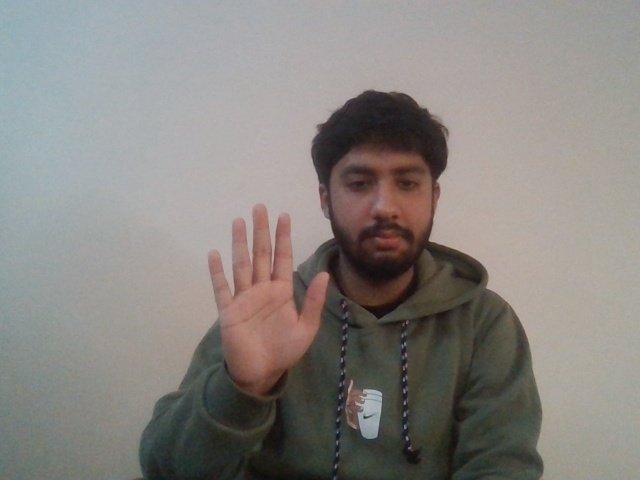Hello: (194, 205, 333, 370)
